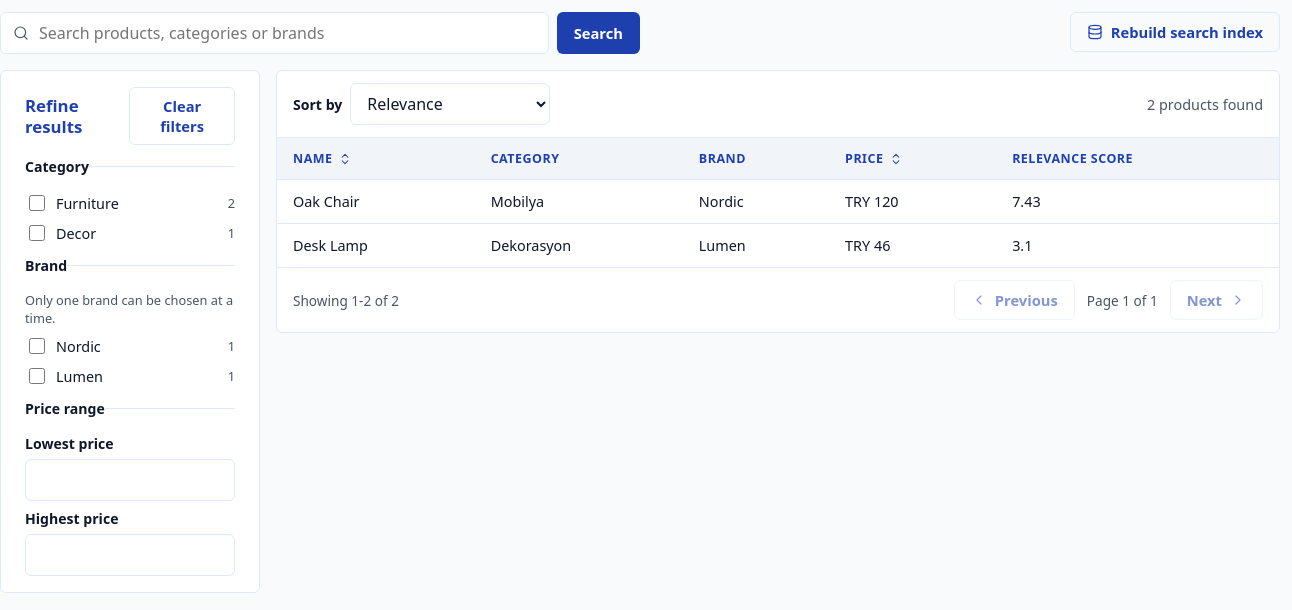
it: the price range is sent, and a lowest price above the highest is refused without a search
expect the text "Oak Chair" is shown: met, box [277,180,475,224]
In the number field labelled "Lowest price": x=130, y=480 [25,459,235,501], type "50"
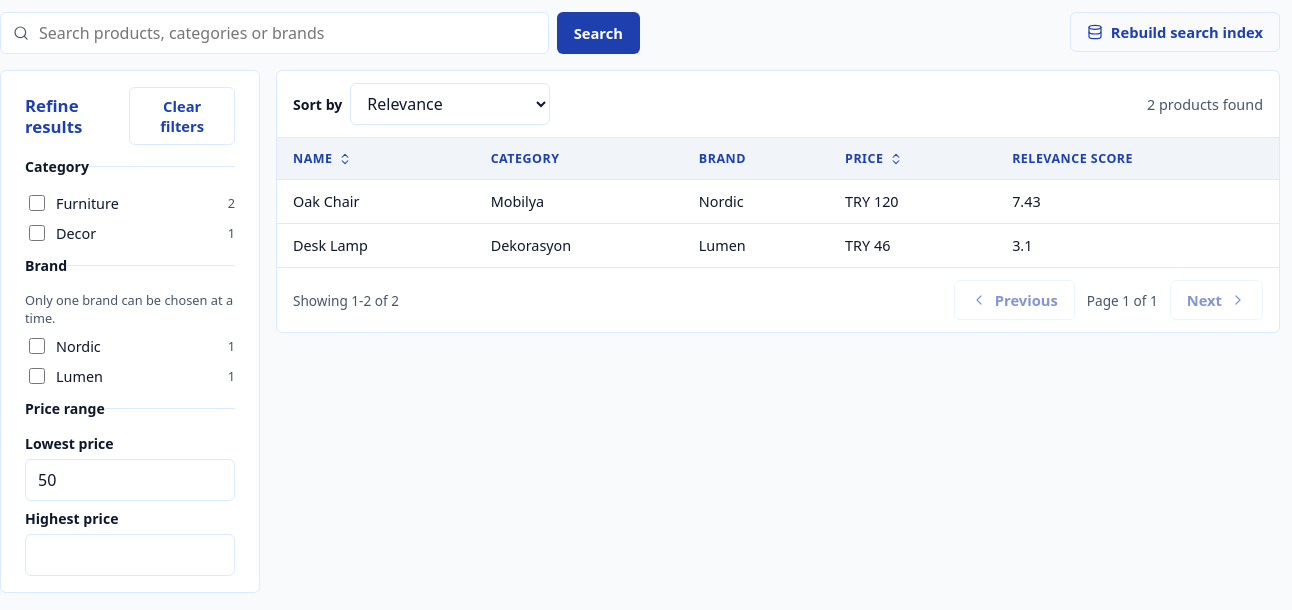
In the number field labelled "Highest price": x=130, y=555 [25,534,235,576], type "10"
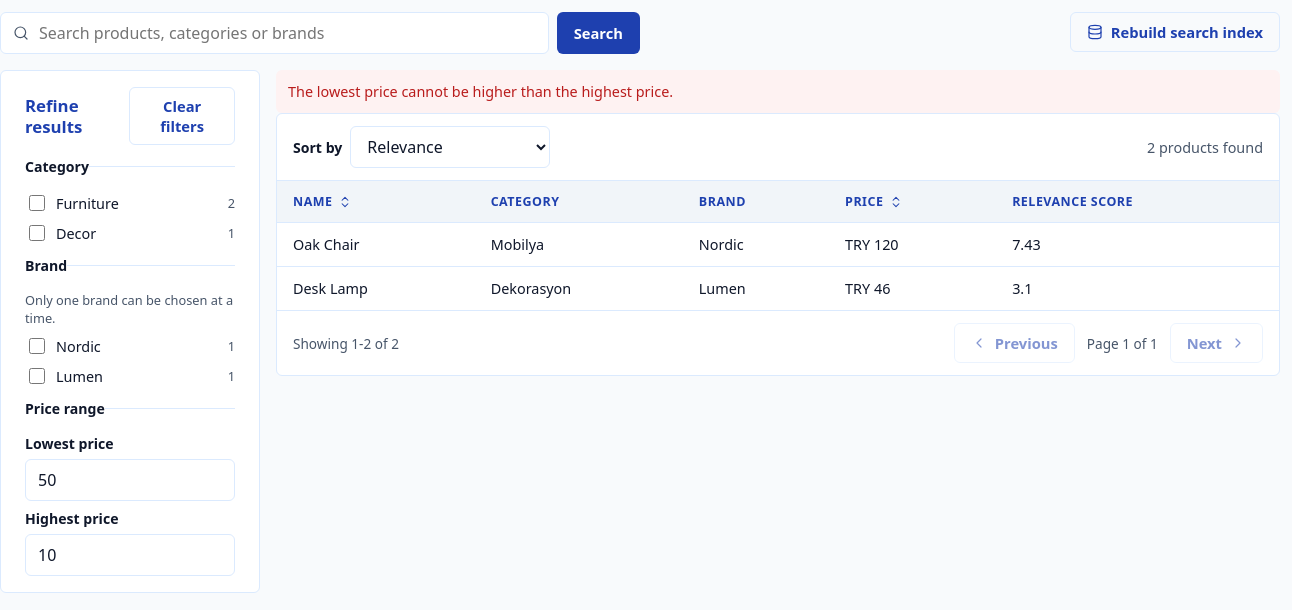
expect the message reads "The lowest price cannot be higher than the highest price.": met, box [288,82,673,101]
